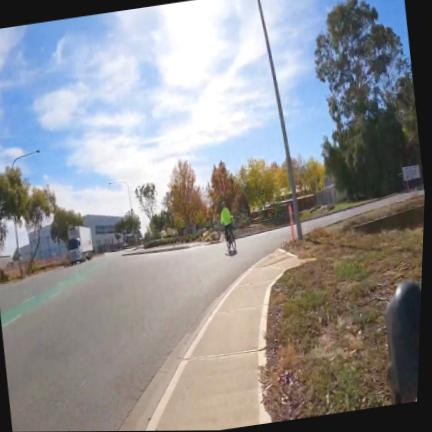Green_Bike_Lane: (0, 267, 92, 327)
